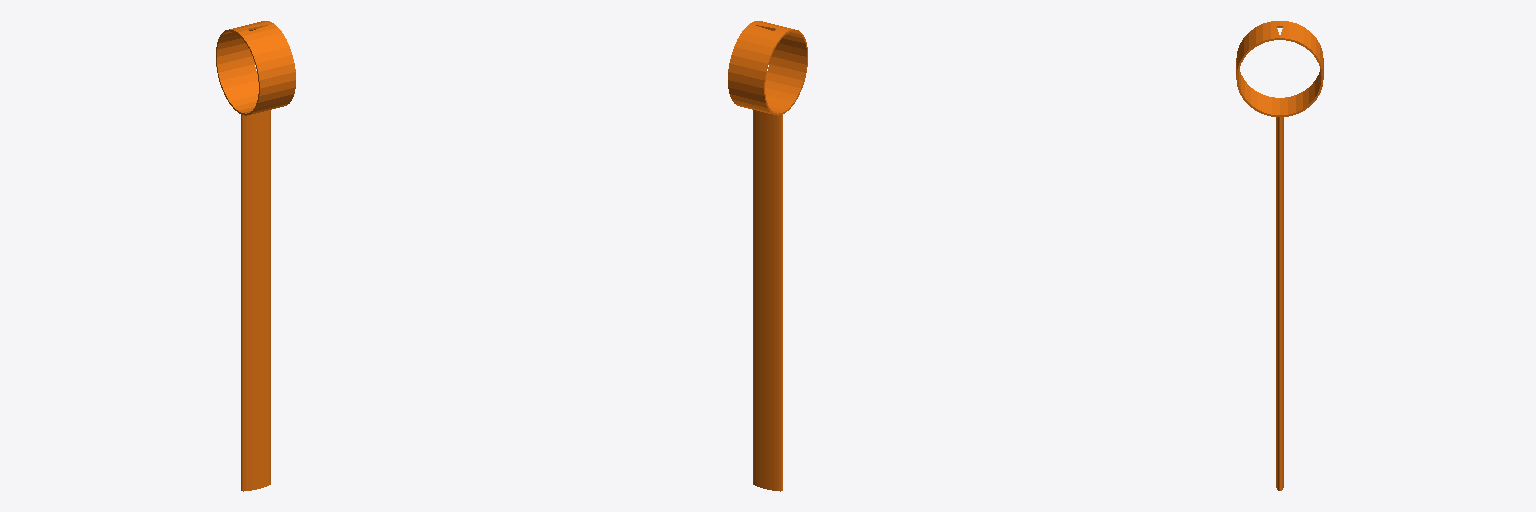
robot.urdf — ring:
<?xml version="1.0" ?>
<robot name="ring">

  <material name = "heritage-orange">
    <color rgba = "0.96078431 0.50980392 0.11764706 1" />
  </material>

  <link name="base" concave="yes">
    <visual>
      <origin rpy="0 0 0" xyz="0 0 0"/>
      <geometry>
        <mesh filename="ring.stl" scale="6.0 1.5 1.5"/>
      </geometry>
      <material name="heritage-orange"/>
    </visual>
    <collision concave="yes">
      <origin rpy="0 0 0" xyz="0 0 0"/>
      <geometry>
        <mesh filename="ring.stl" scale="6.0 1.5 1.5"/>
      </geometry>
    </collision>
    <inertial>
      <origin rpy="0 0 0" xyz="0 0 0"/>
      <mass value="0"/>
      <inertia ixx="0" ixy="0" ixz="0" iyy="0" iyz="0" izz="0"/>
    </inertial>
  </link>

</robot>

--- Facts derived from the render (not from the file) ---
The picture shows the robot from 3 angles, left to right: view 1: azimuth 30°, elevation 25°; view 2: azimuth 150°, elevation 25°; view 3: azimuth 270°, elevation 25°; orthographic projection.
Model ring with 1 links and 0 joints (none), rooted at base, posed every joint at zero.
Visible links, largest first — view 1: base; view 2: base; view 3: base.
Link boxes in pixels (x1,y1,x2,y2): base: [216, 21, 295, 491]; base: [728, 21, 807, 491]; base: [1236, 21, 1323, 490].
Size in the robot's own frame: 1.5 by 3.15 by 18.07 metres.
1 mesh visuals loaded from 1 distinct referenced files (1 binary STL).